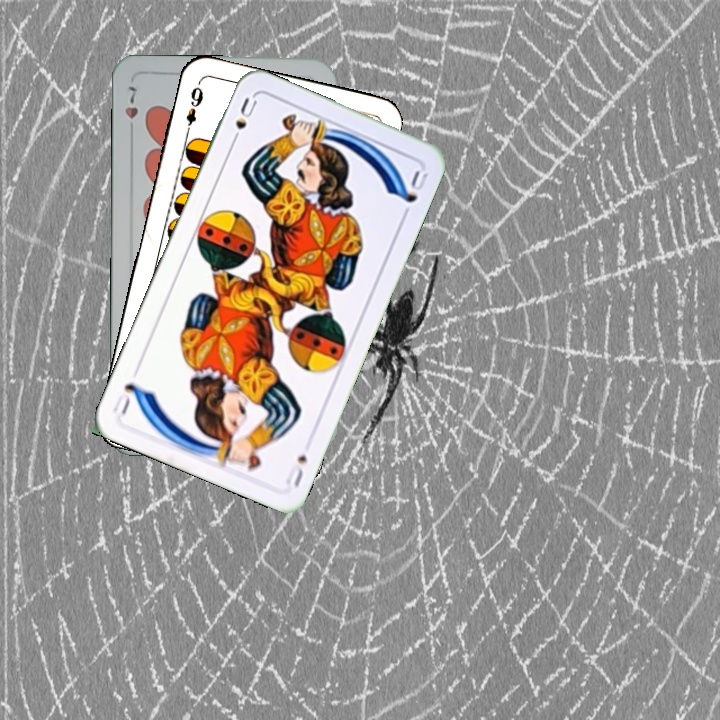E9: (181, 83, 206, 138)
H7: (120, 82, 140, 139)
SU: (227, 93, 260, 149), (284, 450, 310, 490)
